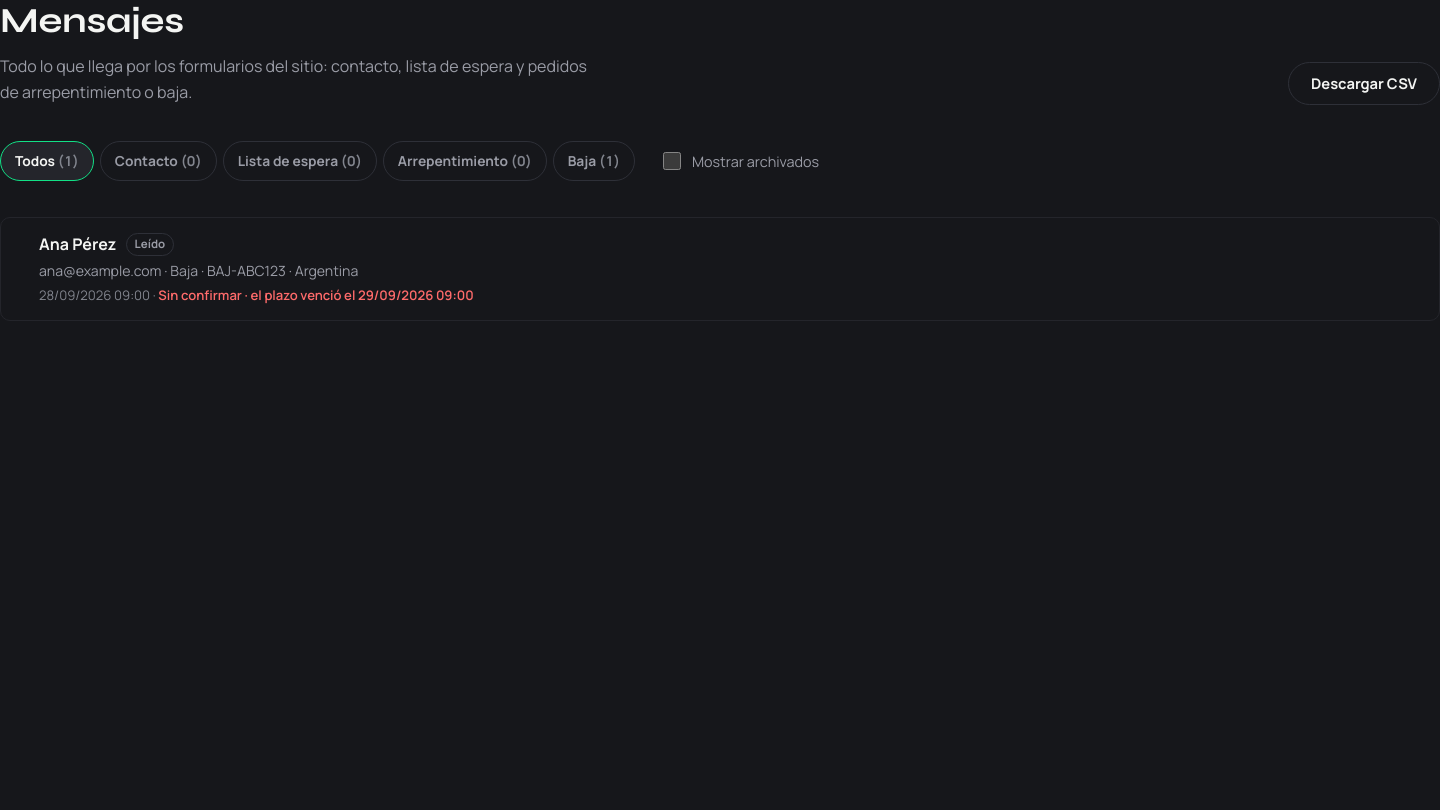
Test case: MessagesPage › confirma un pedido con el email redactado y el botón de la norma
Expected: the text "Sin confirmar · el plazo venció el 29/09/2026 09:00" is shown, [158,286,474,304]
Click the button "Ana Pérez" at (78, 244), box [1,218,1439,320]
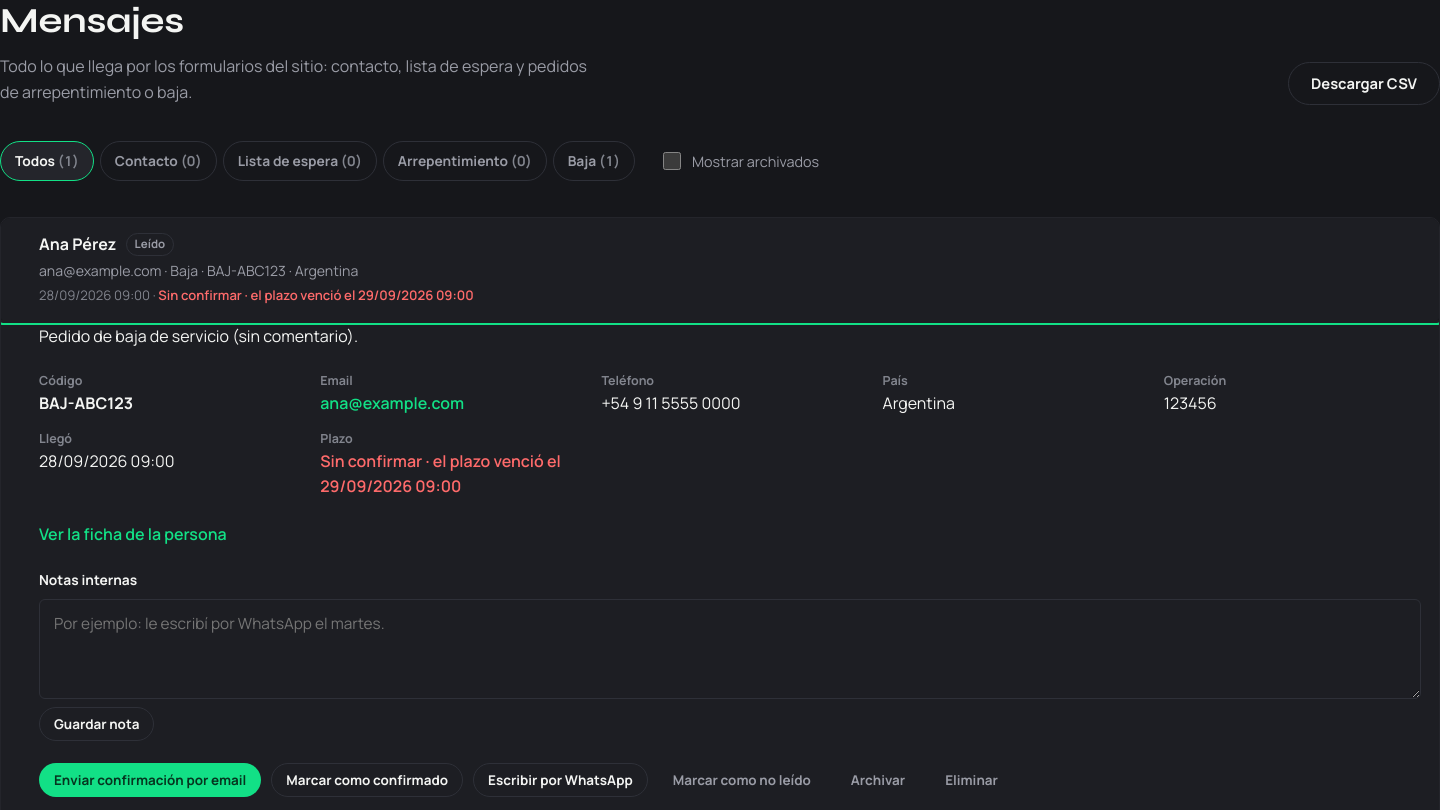
Click the button "Marcar como confirmado" at (367, 780), box [271,763,463,797]
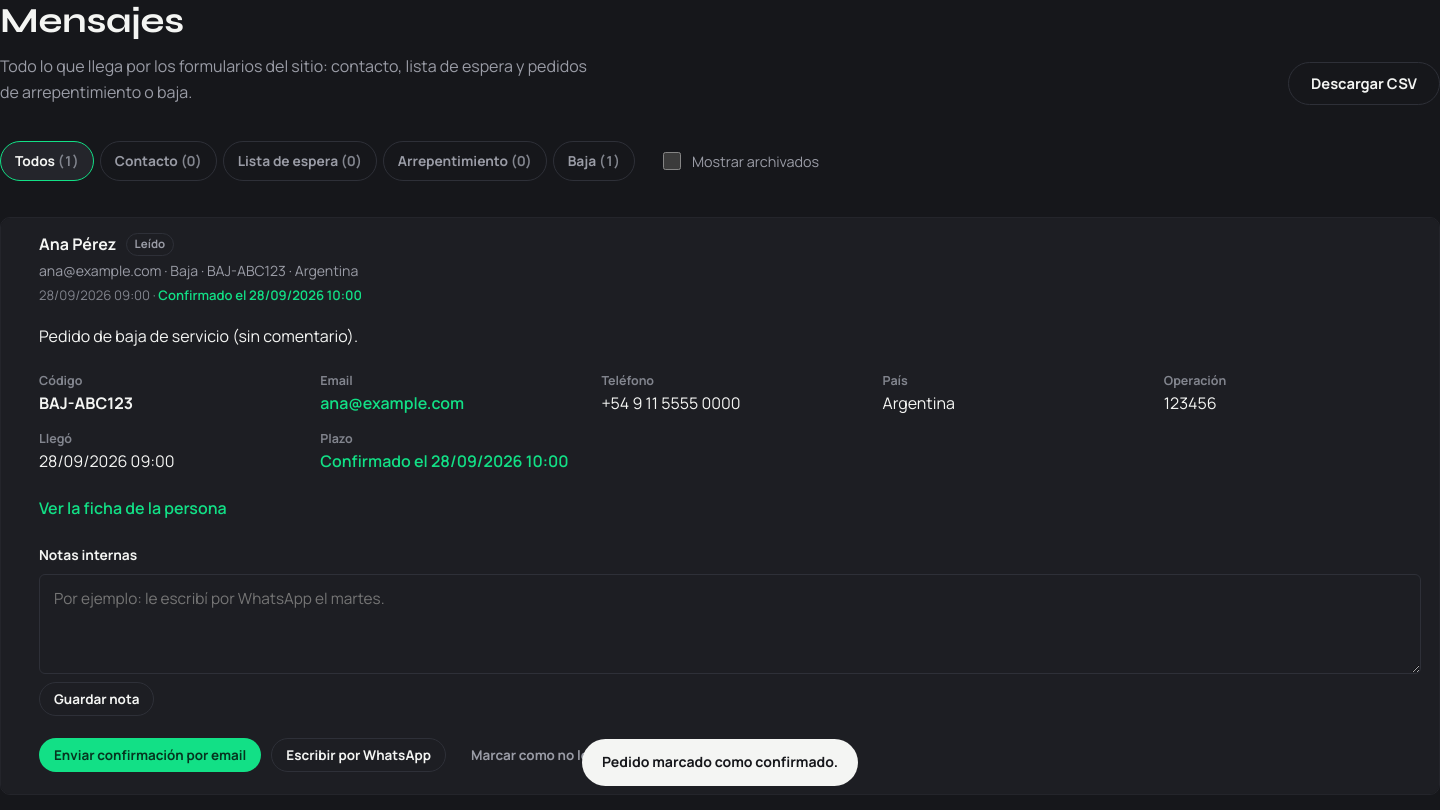
Result: the text "Pedido marcado como confirmado." is shown at [582,740,858,786]
Result: the 1st text "Confirmado el 28/09/2026 10:00" is shown at [158,286,362,304]
